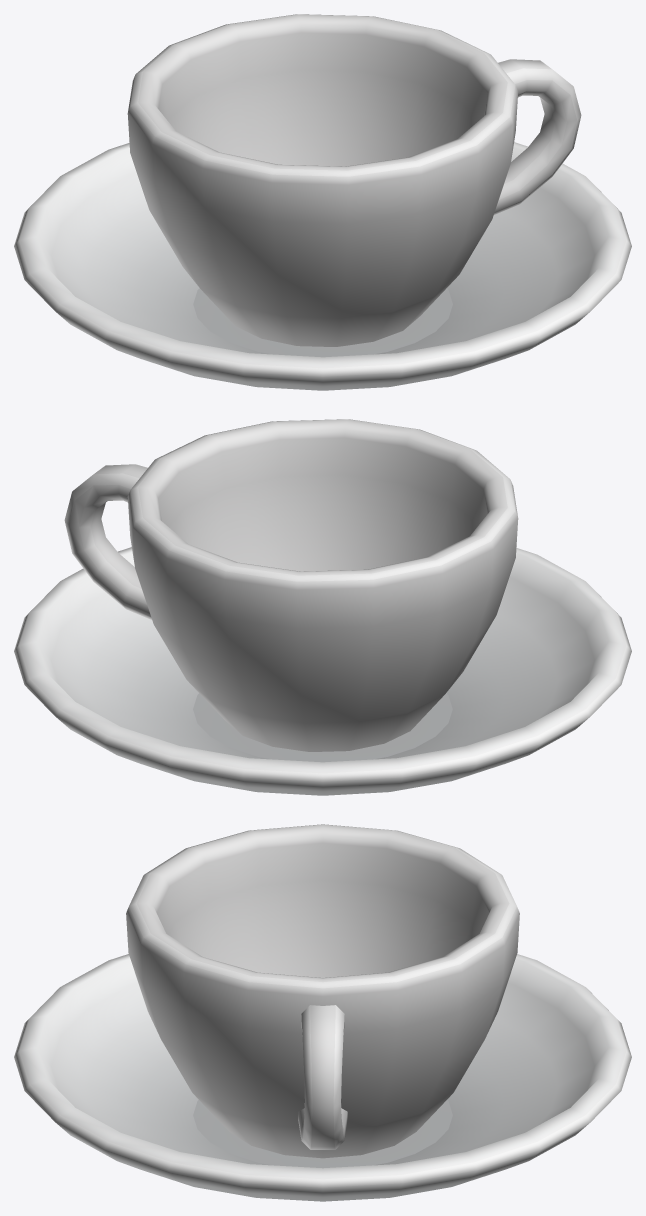
The model's file is cup_003.fbx.
The picture shows the model from 3 angles, top to bottom: view 1: azimuth 30°, elevation 25°; view 2: azimuth 150°, elevation 25°; view 3: azimuth 270°, elevation 25°; orthographic projection.
Visible parts, largest first — view 1: cup_003; view 2: cup_003; view 3: cup_003.
Boxes of the visible parts, x1,y1,x2,y2 form: cup_003: (14, 14, 631, 390); cup_003: (14, 419, 631, 795); cup_003: (14, 824, 631, 1201).
Bounding box in the file's own units: 12.69 × 12.69 × 5.01.
